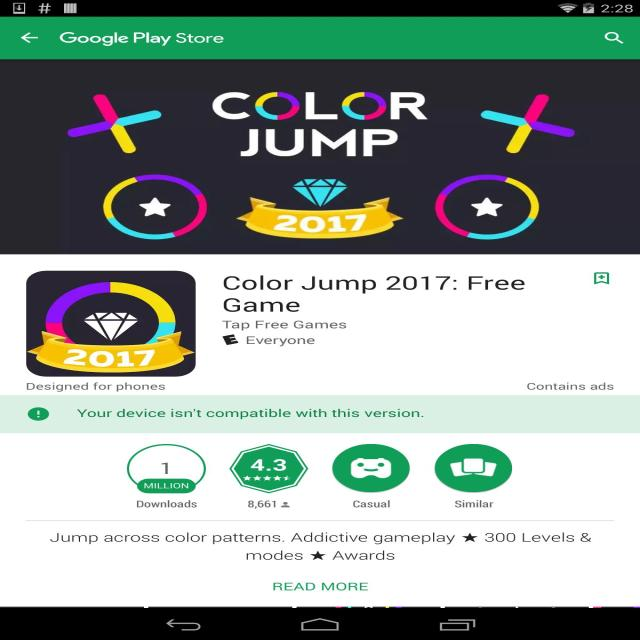button: (16, 29, 45, 51), (599, 28, 628, 50), (591, 269, 612, 287)
heading: (220, 273, 530, 315), (58, 30, 226, 48)
image: (0, 59, 639, 254), (28, 270, 197, 376), (229, 443, 310, 495), (128, 444, 207, 494), (332, 444, 410, 493), (436, 443, 512, 492), (27, 406, 52, 422)
link: (270, 580, 370, 592)
text: (47, 532, 592, 562), (74, 405, 426, 422), (222, 318, 353, 348), (25, 382, 167, 394), (522, 381, 618, 393), (136, 499, 198, 509), (351, 499, 392, 509), (454, 499, 494, 509), (246, 500, 290, 509)
